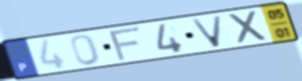0: (68, 32, 103, 67)
4: (39, 37, 70, 72), (154, 21, 185, 55)
F: (106, 25, 144, 63)
V: (188, 14, 225, 49)
X: (226, 8, 272, 46)
